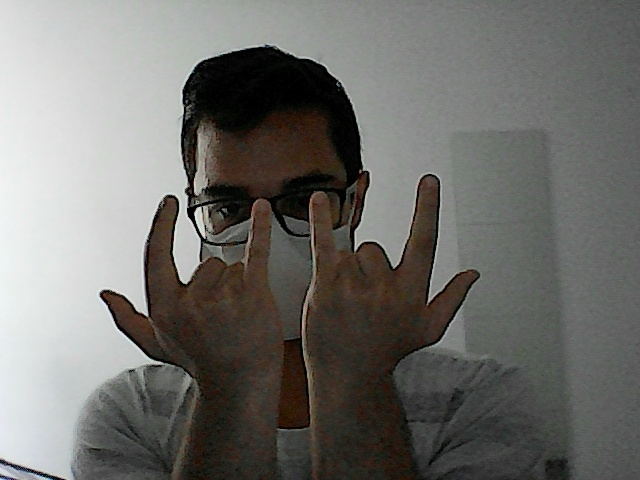shoot: (295, 160, 486, 385), (94, 185, 287, 381)
